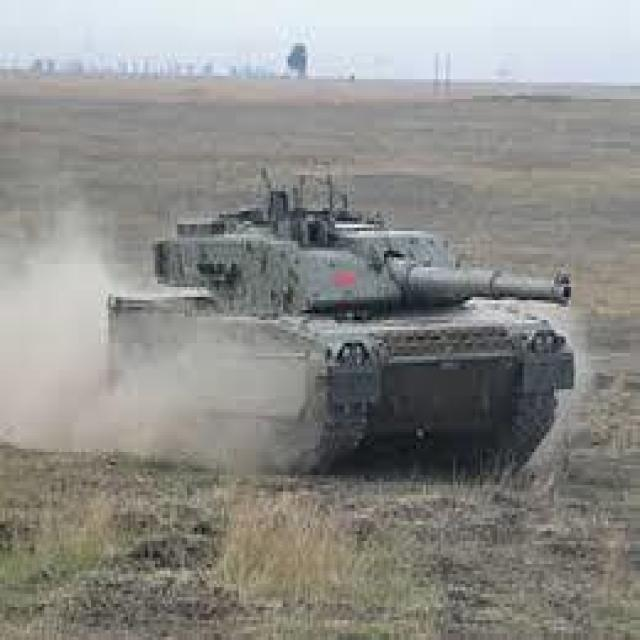Tanks: (99, 46, 571, 591)
